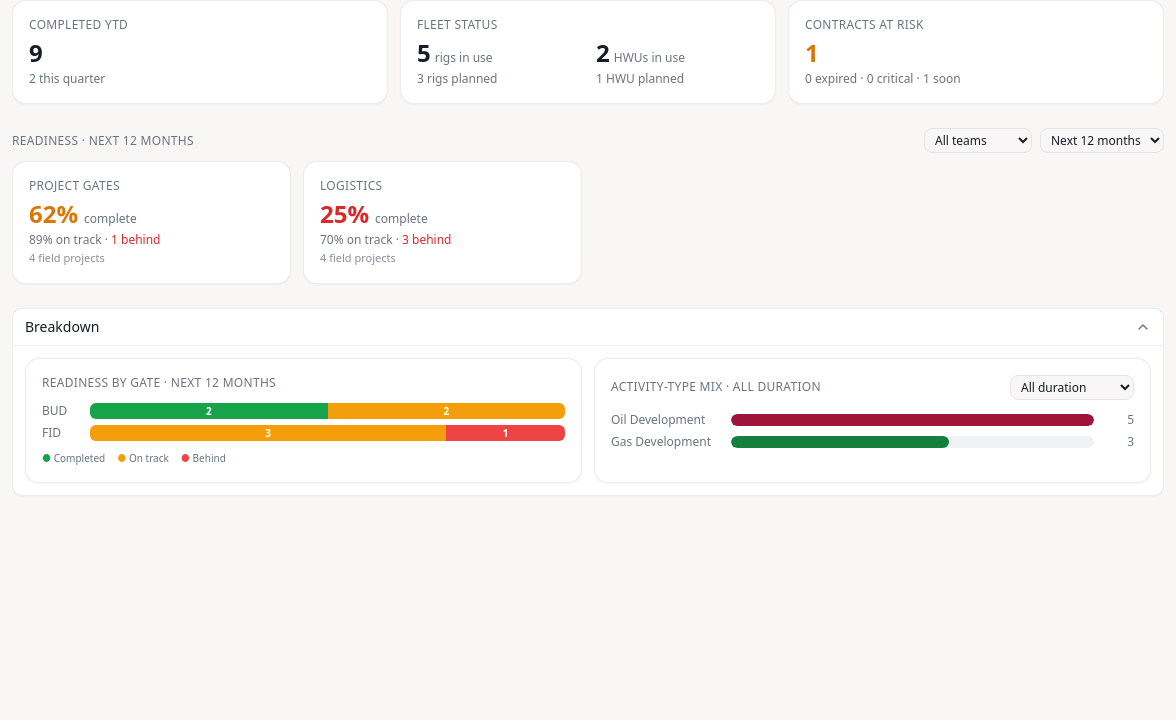
Test: ProjectDashboard › focuses on one team: hides the others, says so, and remembers it
Expected: the number of elements with test id "readiness-card" is 2, top-left (12, 161), bottom-right (291, 284); top-left (303, 161), bottom-right (582, 284)
Step 1. Select "Logistics" in the dropdown named "Readiness teams shown" → (978, 140), box top-left (924, 128), bottom-right (1032, 153)
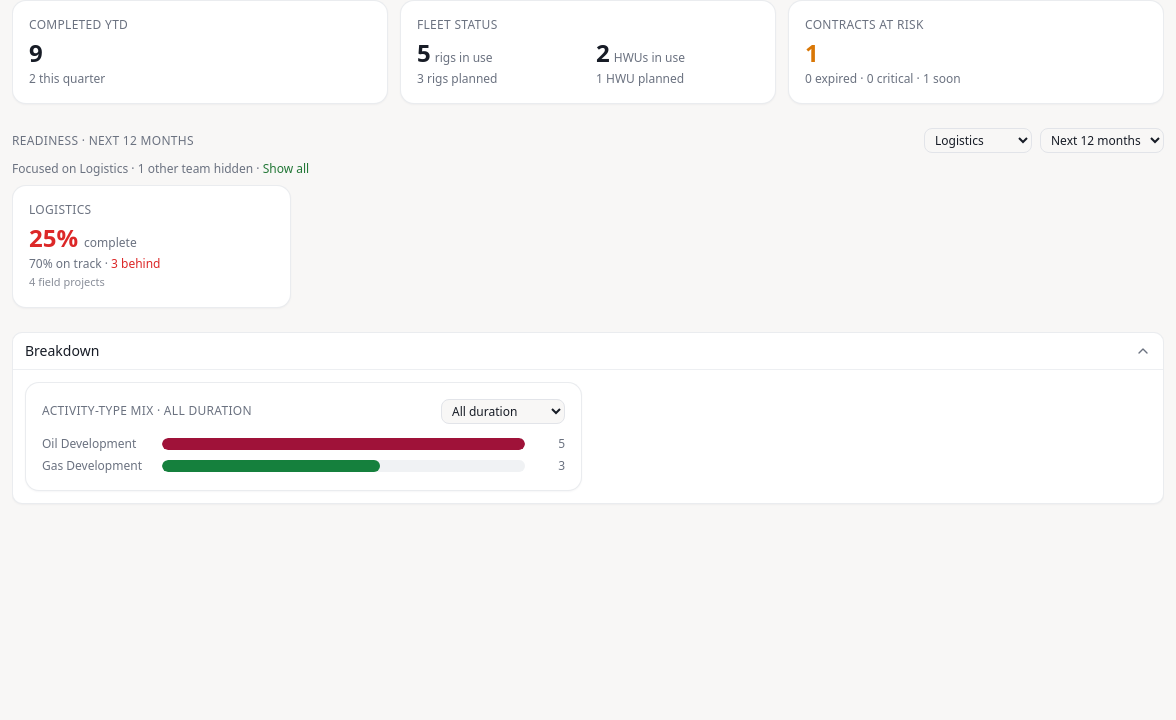
Now the number of elements with test id "readiness-card" is 1, box top-left (12, 185), bottom-right (291, 308)
Now the element with test id "readiness-focus-note" reads "Focused on Logistics · 1 other team hidden · Show all", box top-left (12, 160), bottom-right (309, 177)
Now the text "Readiness by gate" is gone
Step 2. Click the button "Show all" → (286, 169), box top-left (263, 161), bottom-right (309, 177)
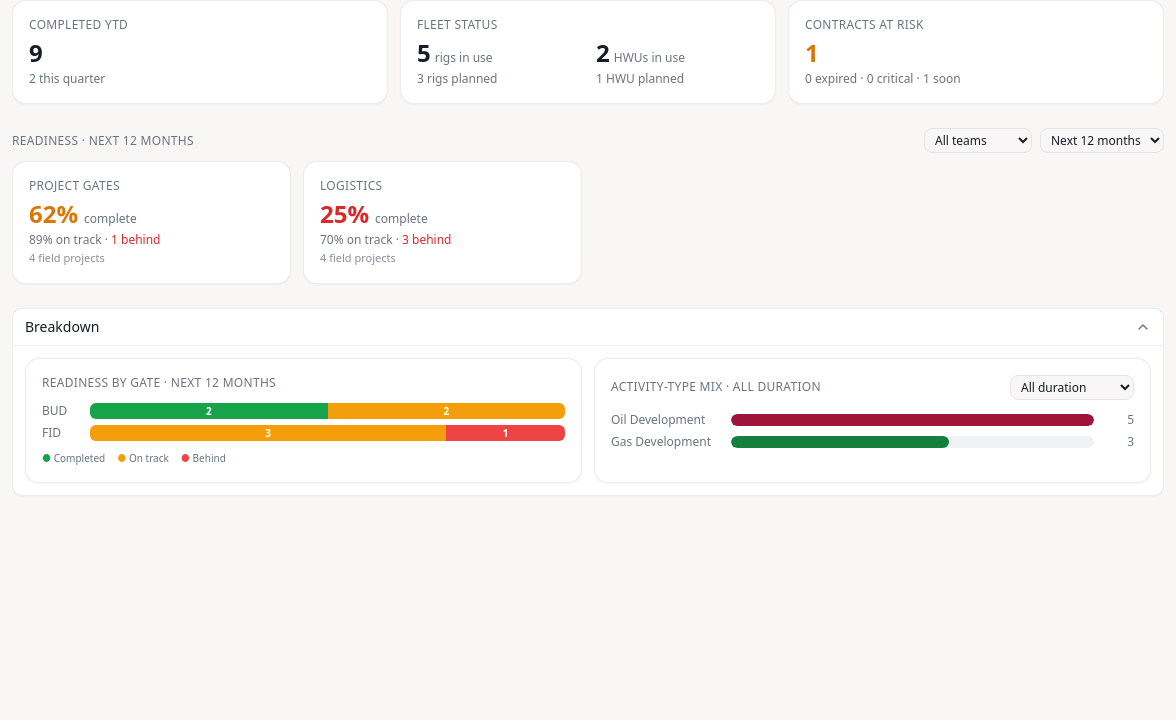
Now the number of elements with test id "readiness-card" is 2, box top-left (12, 161), bottom-right (291, 284); top-left (303, 161), bottom-right (582, 284)
Now the text "Readiness by gate · next 12 months" is shown, box top-left (42, 374), bottom-right (276, 390)
